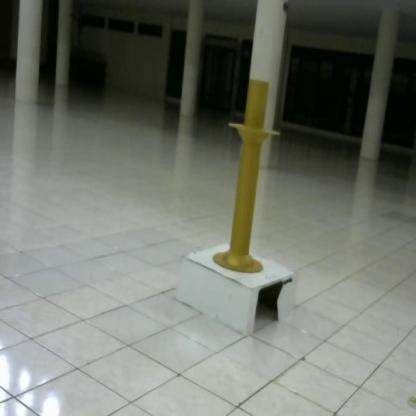pole: (206, 75, 285, 283)
